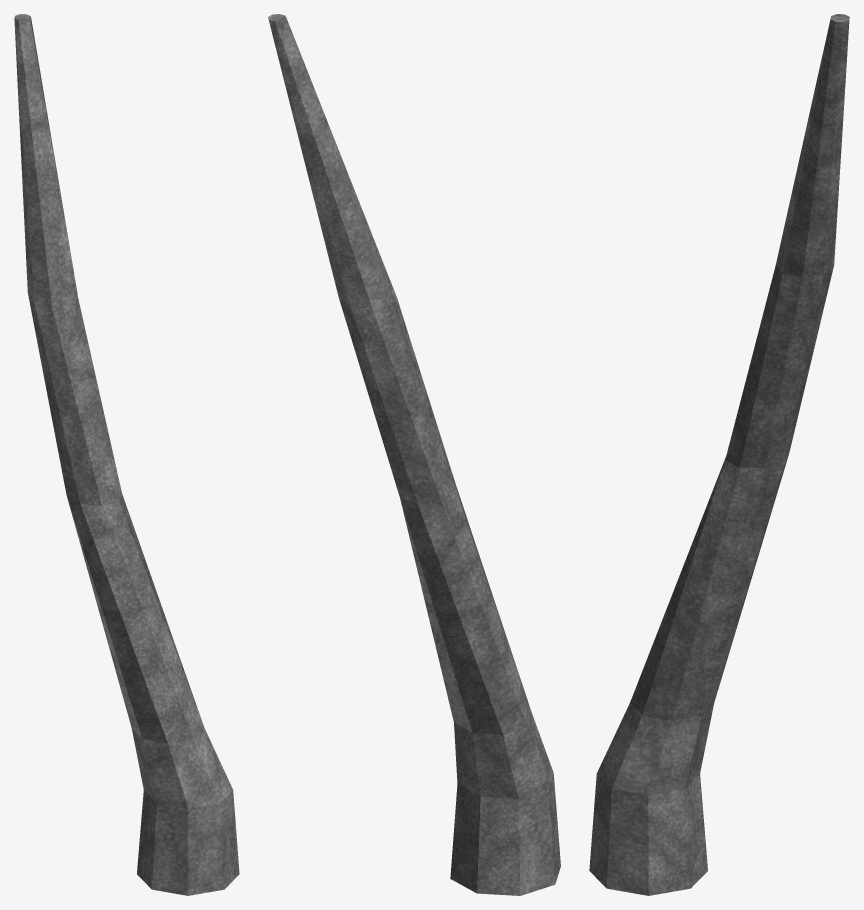
Rendered from spike individual var 2.fbx.
3 views of the same model, side by side, from view 1: azimuth 90°, elevation 25°; view 2: azimuth 150°, elevation 25°; view 3: azimuth 270°, elevation 25° (orthographic). The views are drawn at different scales.
Visible parts, largest first — view 1: spike individual var 2; view 2: spike individual var 2; view 3: spike individual var 2.
Part boxes in pixels (x1=…): spike individual var 2: x1=14, y1=14, x2=239, y2=895; spike individual var 2: x1=268, y1=14, x2=560, y2=895; spike individual var 2: x1=589, y1=14, x2=849, y2=895.
Bounding box in the file's own units: 296 × 1301 × 333.
